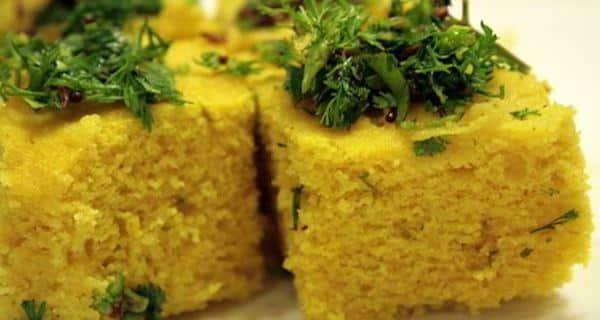dhokla: (3, 4, 582, 320)
